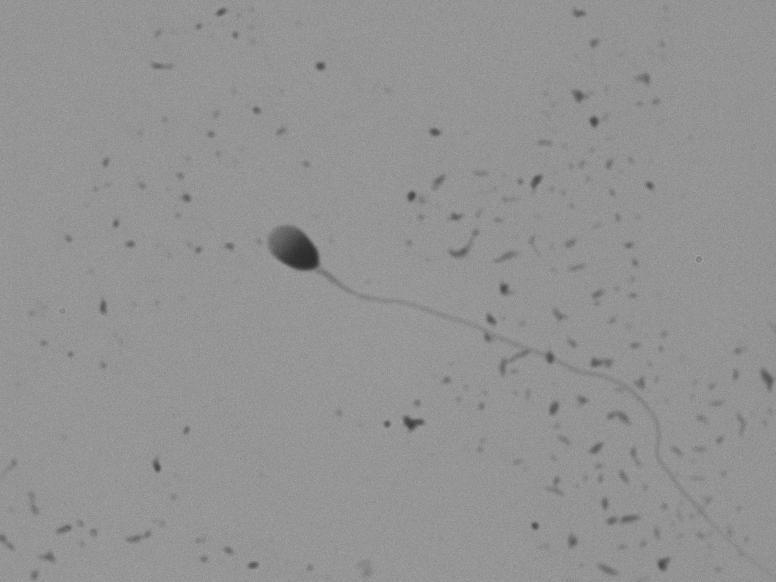Normal: (214, 196, 754, 533)
